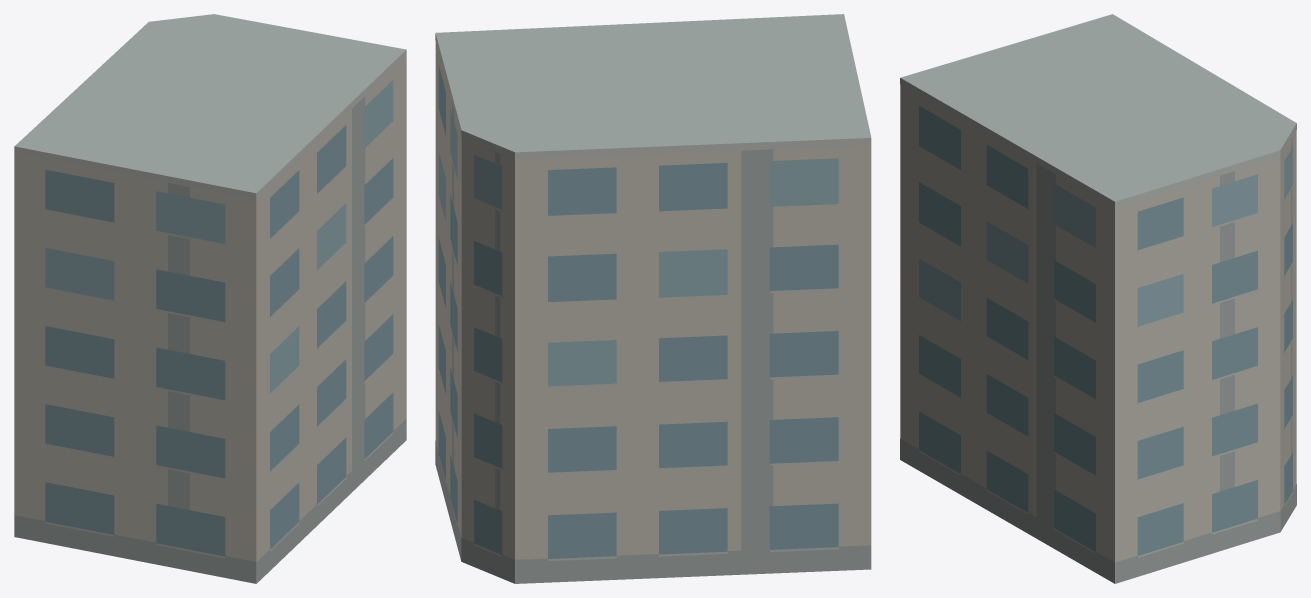
The model's file is residential-f0812cab-34b2-4b0c-9619-e4cedd16fb24.glb.
The picture shows the model from 3 angles, left to right: view 1: azimuth 30°, elevation 25°; view 2: azimuth 150°, elevation 25°; view 3: azimuth 270°, elevation 25°; orthographic projection. The views are drawn at different scales.
Parts seen in each view (by area): view 1: residential-f0812cab-34b2-4b0c-9619-e4cedd16fb24.tmp; view 2: residential-f0812cab-34b2-4b0c-9619-e4cedd16fb24.tmp; view 3: residential-f0812cab-34b2-4b0c-9619-e4cedd16fb24.tmp.
Part boxes in pixels (<box>): residential-f0812cab-34b2-4b0c-9619-e4cedd16fb24.tmp: <box>14,14,406,583</box>; residential-f0812cab-34b2-4b0c-9619-e4cedd16fb24.tmp: <box>435,14,871,583</box>; residential-f0812cab-34b2-4b0c-9619-e4cedd16fb24.tmp: <box>900,14,1296,583</box>.
Bounding box in the file's own units: 14.76 × 14 × 13.18.
